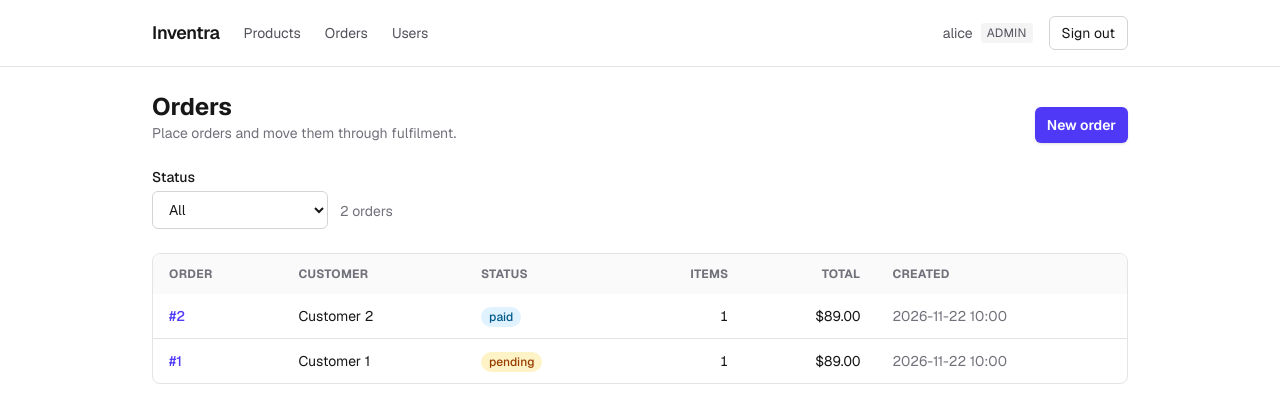
Test: OrdersPage › filters by status and back to all
Expected: the link "#1" is shown, top-left (169, 352), bottom-right (182, 370)
Select "paid" in the dropdown labelled "Status": (240, 210) top-left (152, 191), bottom-right (328, 229)
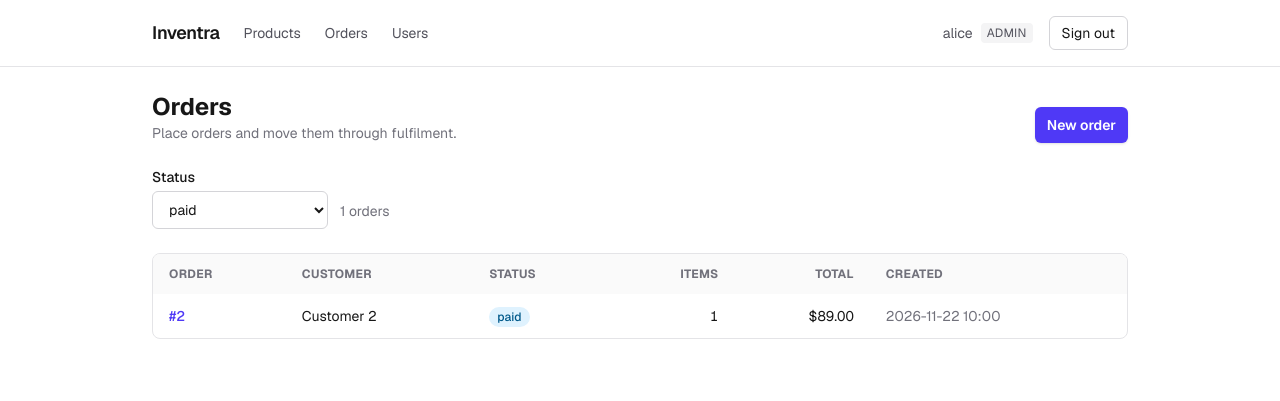
Now the link "#1" is gone
Select "All" in the dropdown labelled "Status": (240, 210) top-left (152, 191), bottom-right (328, 229)
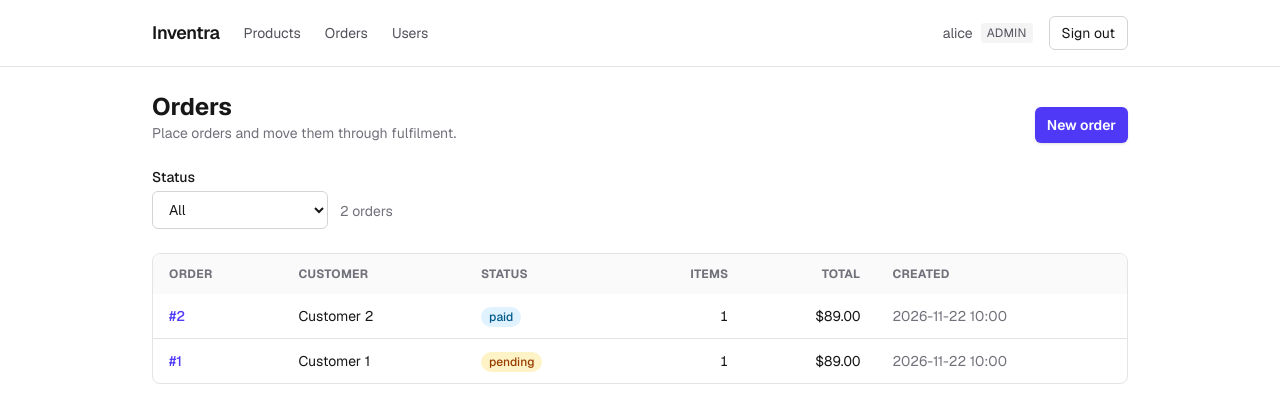
Now the link "#1" is shown, box top-left (169, 352), bottom-right (182, 370)
